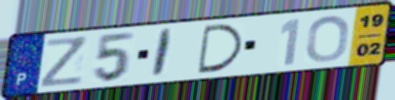1: (278, 17, 302, 67)
5: (92, 30, 137, 84)
D: (196, 22, 246, 76)
I: (149, 27, 176, 80)
O: (304, 14, 352, 64)
Z: (39, 35, 89, 90)
